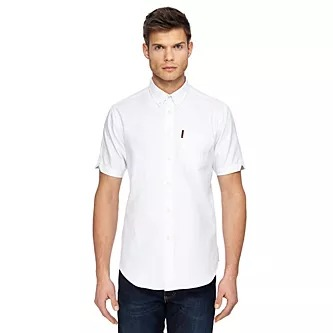S_shirt: (95, 81, 257, 288)
